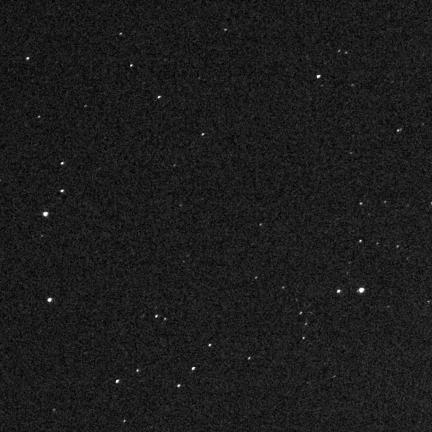blob: (43, 212, 48, 217), (317, 75, 321, 78)
